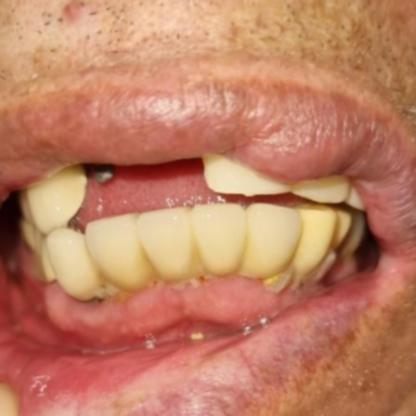Missing: (33, 150, 257, 215)
